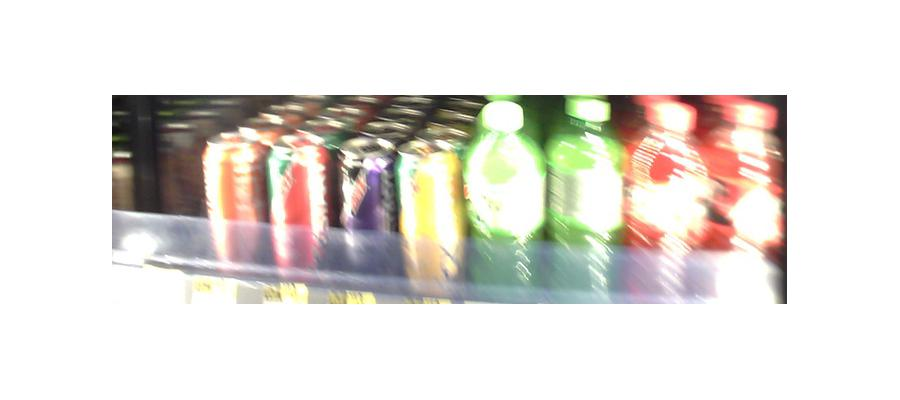bottle: (627, 103, 710, 301), (544, 98, 622, 299), (465, 100, 542, 295), (395, 127, 462, 291), (335, 133, 394, 279), (269, 135, 327, 282), (208, 137, 268, 267)
